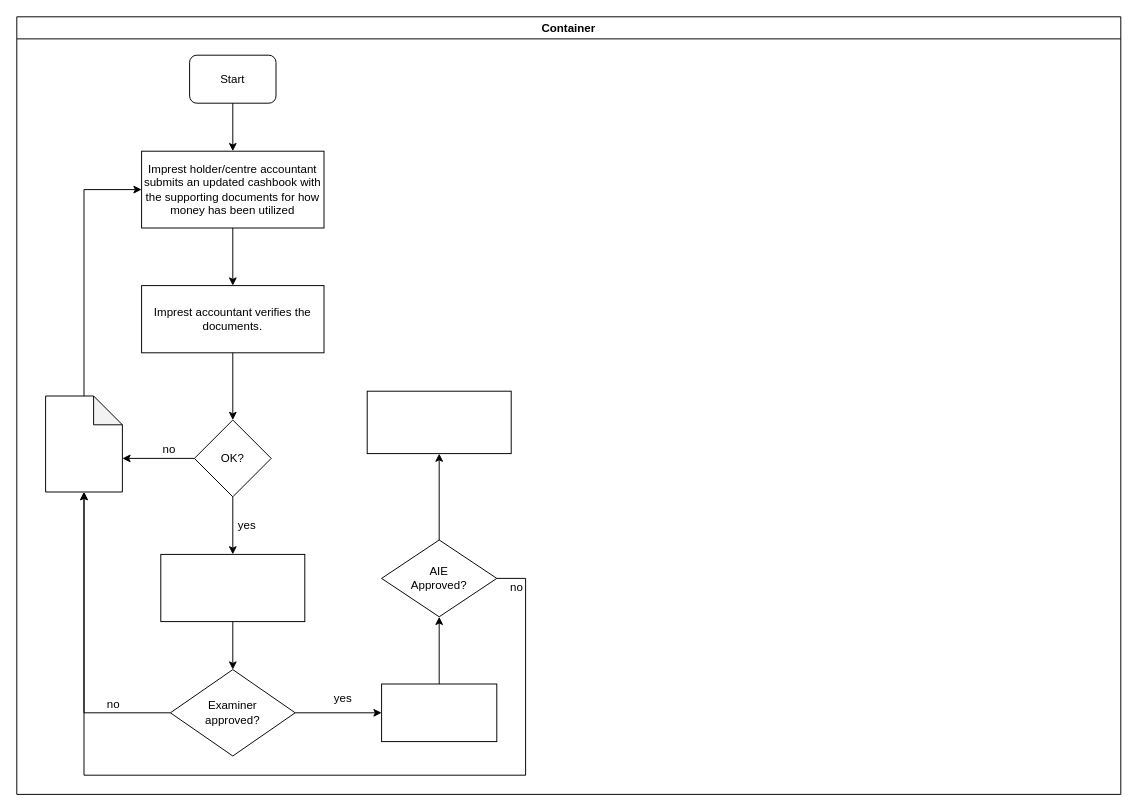
This 1138x811 diagram has some shape labels left out. Each missing label, with the centre of its shape:
AIE Holder review: pixel 439 712
Examination accountant numbers the voucher and forwards to vote book: pixel 438 422
Imprest accountant generates a payment voucher and submits it to examination: pixel 232 587
Return comments: pixel 83 443
